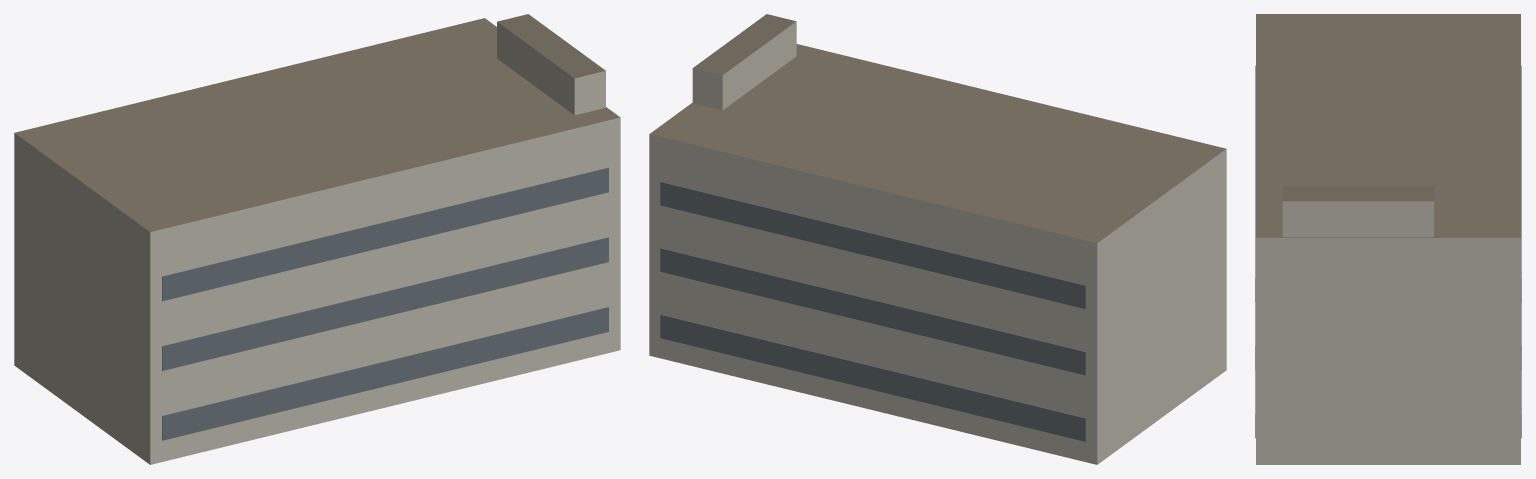
File: ew-control-house.tone-v1.lod2.glb
3 renders of one model, left to right at view 1: azimuth 30°, elevation 25°; view 2: azimuth 150°, elevation 25°; view 3: azimuth 270°, elevation 25°, orthographic. The views are drawn at different scales.
Parts seen in each view (by area): view 1: ew-control-house; view 2: ew-control-house; view 3: ew-control-house.
Boxes of the visible parts, bbox=[...] form: ew-control-house: bbox=[14, 14, 620, 464]; ew-control-house: bbox=[649, 14, 1226, 464]; ew-control-house: bbox=[1255, 14, 1521, 464].
Size of the model in its own units: 24 by 13.15 by 12.06.
